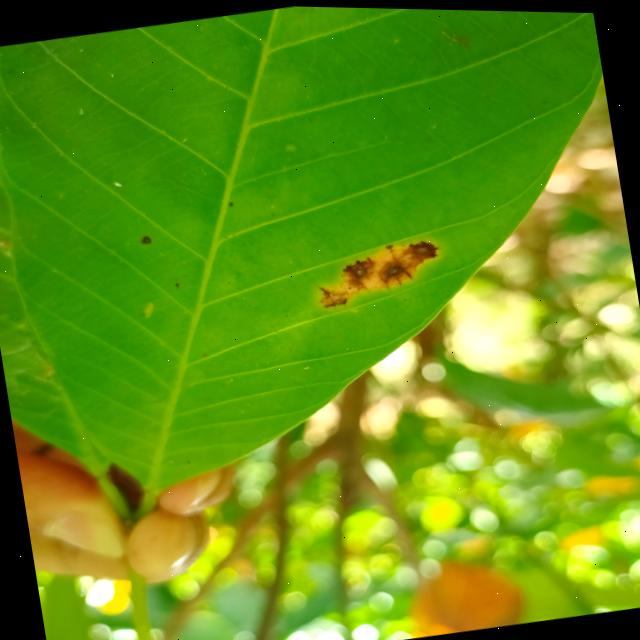Colletotrichum: (142, 234, 152, 244)
